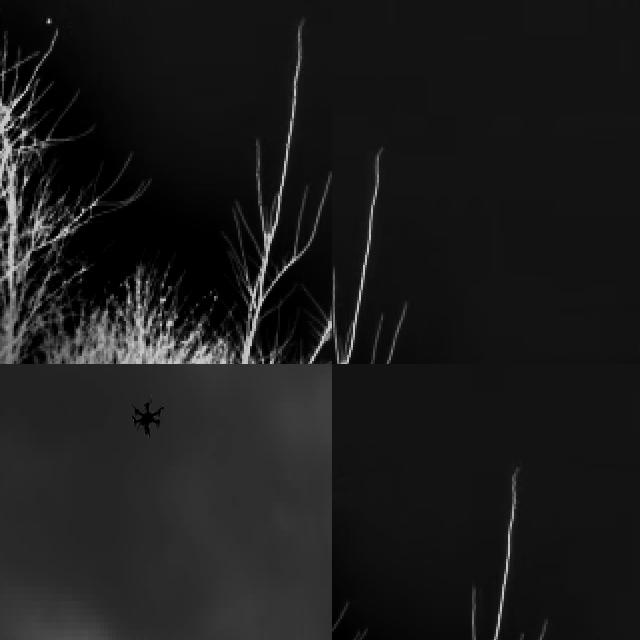0: (40, 11, 62, 36), (332, 463, 343, 496)
drone: (128, 394, 165, 445)
